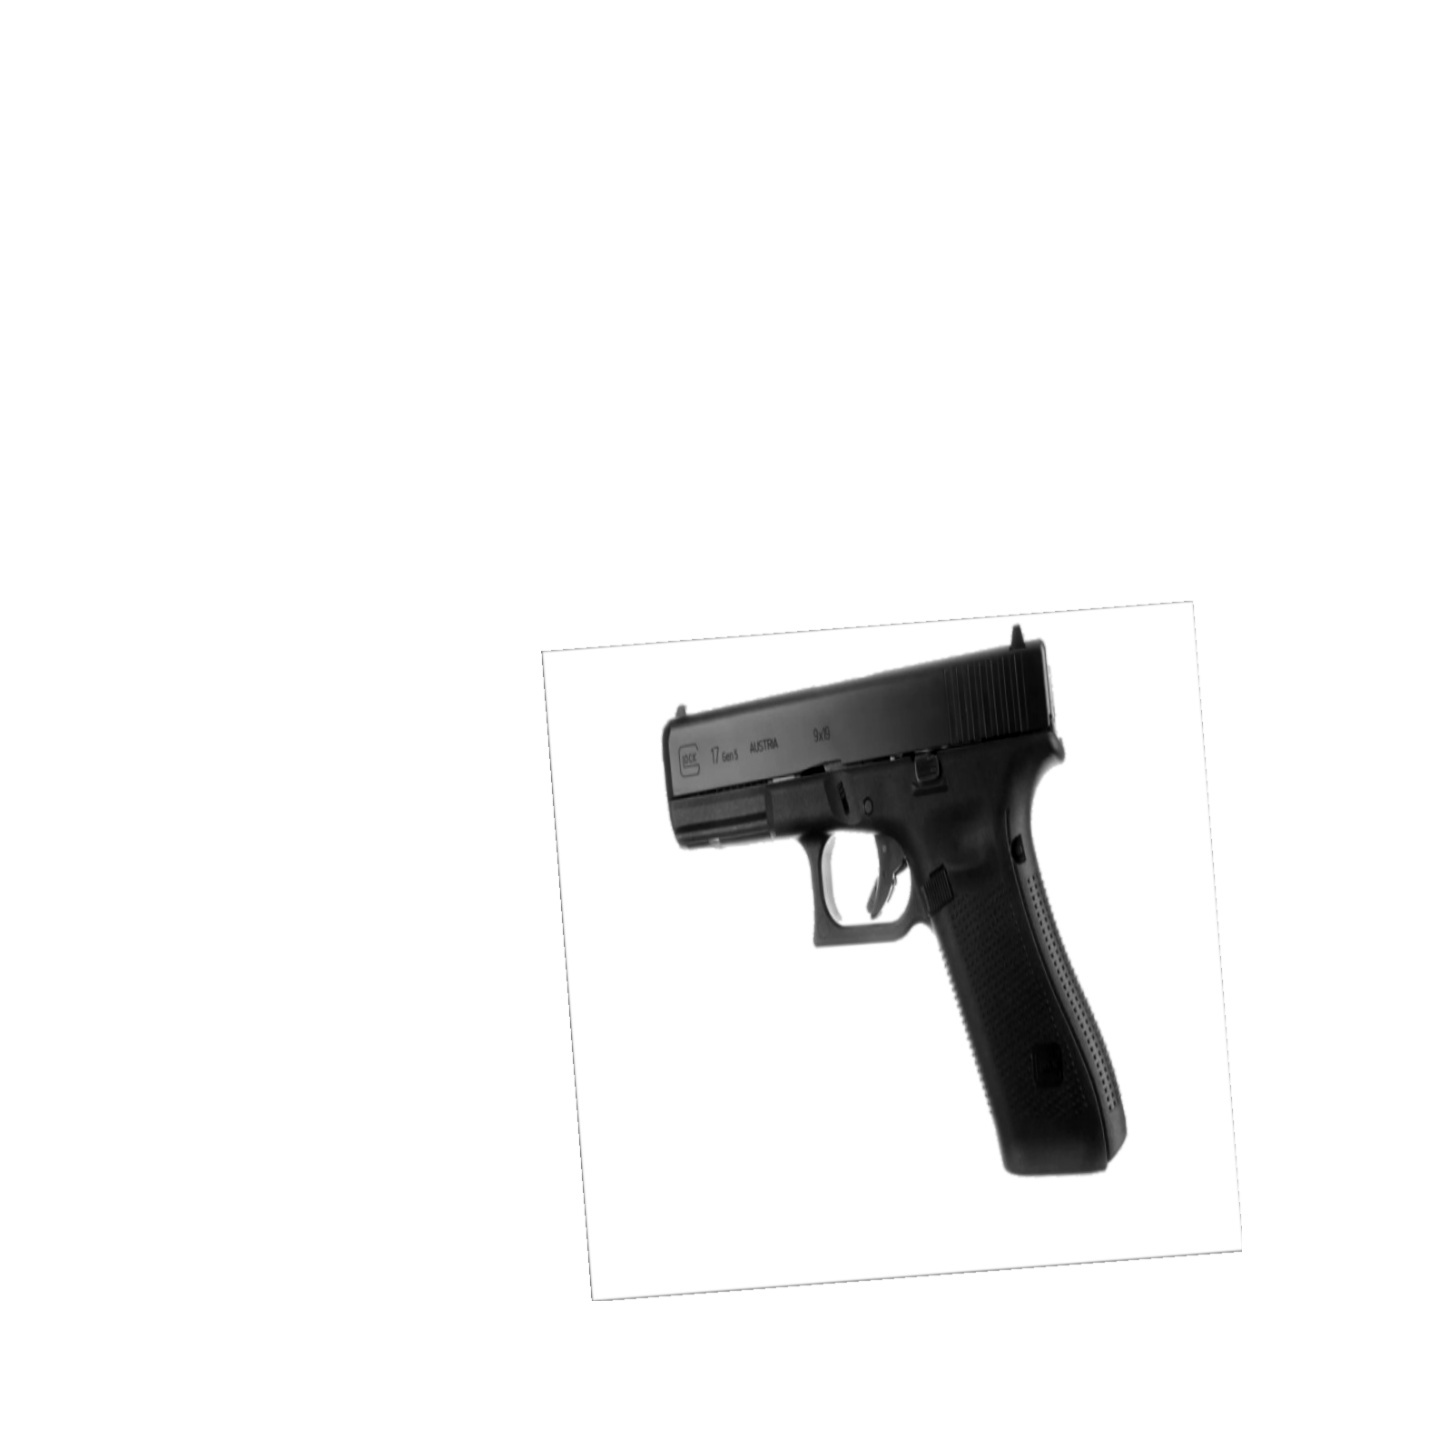gun: (658, 623, 1144, 1186)
